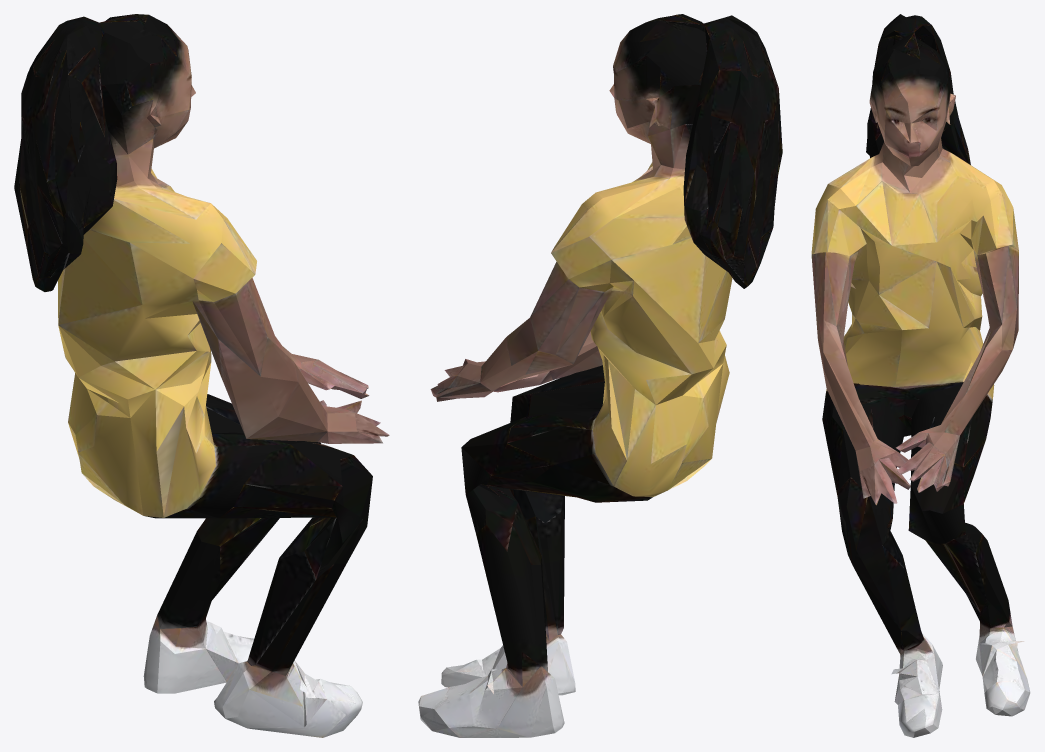
The model's file is crowd-sp-8.glb.
3 views of the same model, side by side, from view 1: azimuth 30°, elevation 25°; view 2: azimuth 150°, elevation 25°; view 3: azimuth 270°, elevation 25° (orthographic). The views are drawn at different scales.
Parts seen in each view (by area): view 1: char1; view 2: char1; view 3: char1.
Part boxes in pixels (left/top/right/bottom): char1: left=14, top=14, right=389, bottom=737; char1: left=418, top=14, right=782, bottom=737; char1: left=811, top=14, right=1030, bottom=737.
Bounding box in the file's own units: 0.6328 × 1.34 × 0.4323.
1 material, 1 textured.
